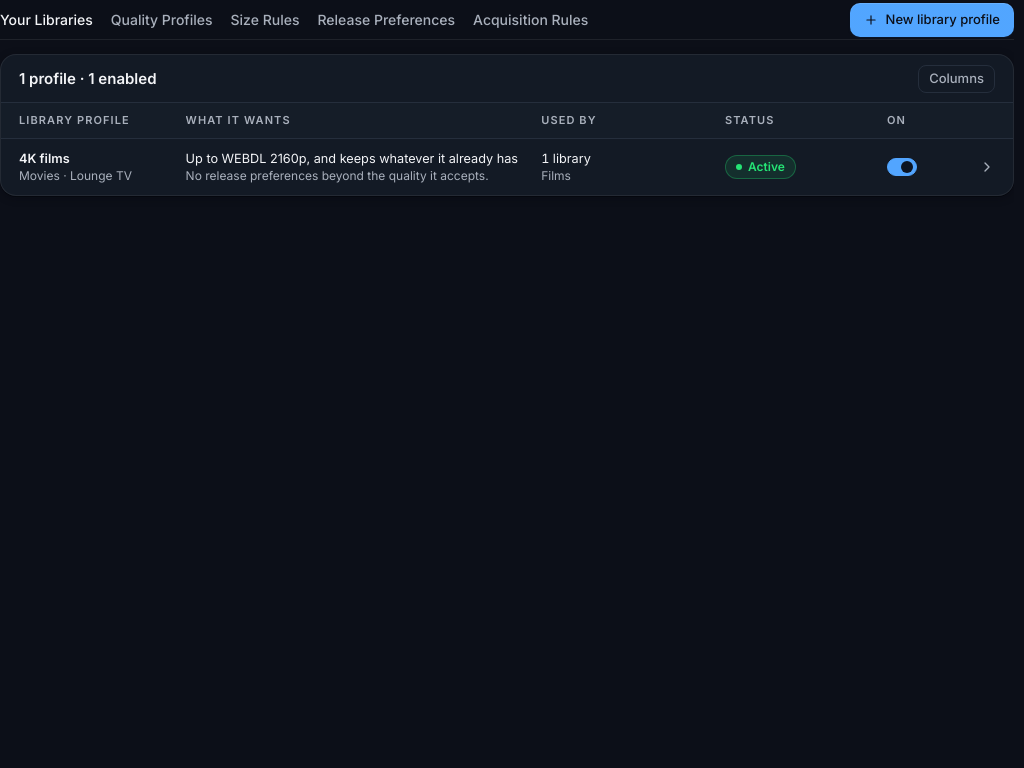
Test: an existing library profile › opens with its own choices, the library using it already on, its history and a Delete section
Step 1. Click the text "4K films" → [44, 158], box x1=19 y1=151 x2=70 y2=166
(page scrolled)
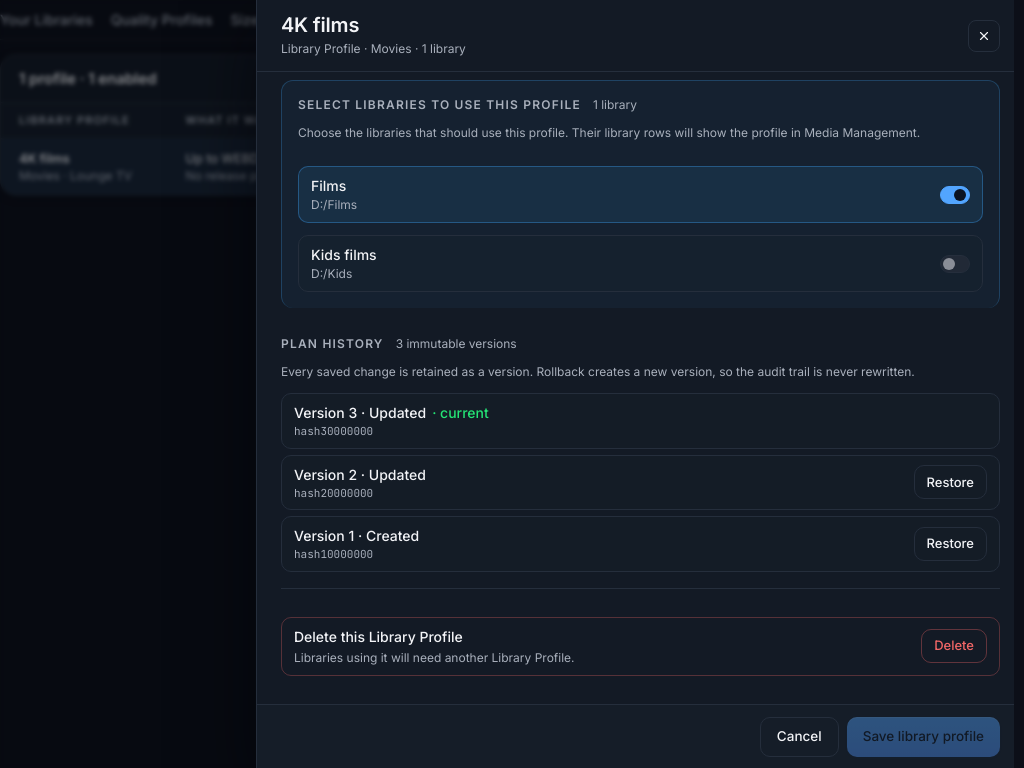
Check: the button "Save library profile" is shown, box x1=847 y1=716 x2=1000 y2=756
Check: the text "Version 3 · Updated" is shown, box x1=294 y1=402 x2=489 y2=423
Check: the text "Delete this Library Profile" is shown, box x1=294 y1=628 x2=463 y2=644
